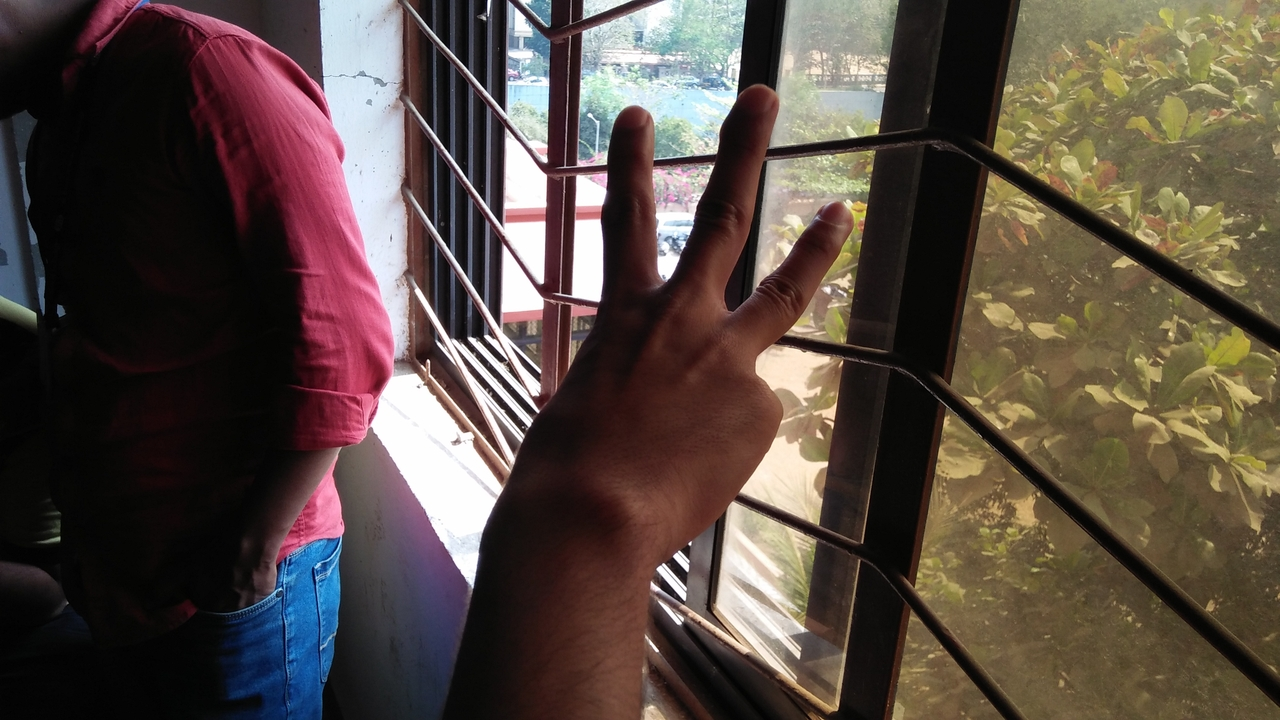fingertip: (800, 190, 860, 244), (724, 72, 786, 124), (602, 100, 660, 150)
